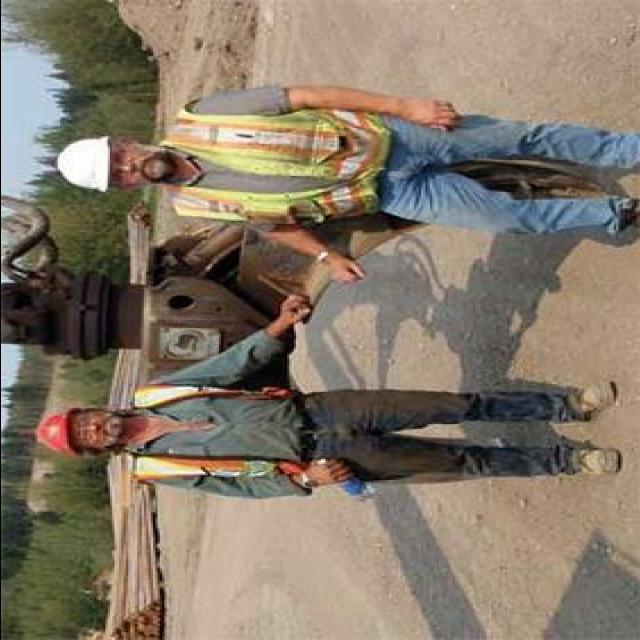helmet: (48, 133, 116, 195), (36, 400, 80, 462)
jacket: (166, 80, 389, 227), (124, 372, 310, 492)
